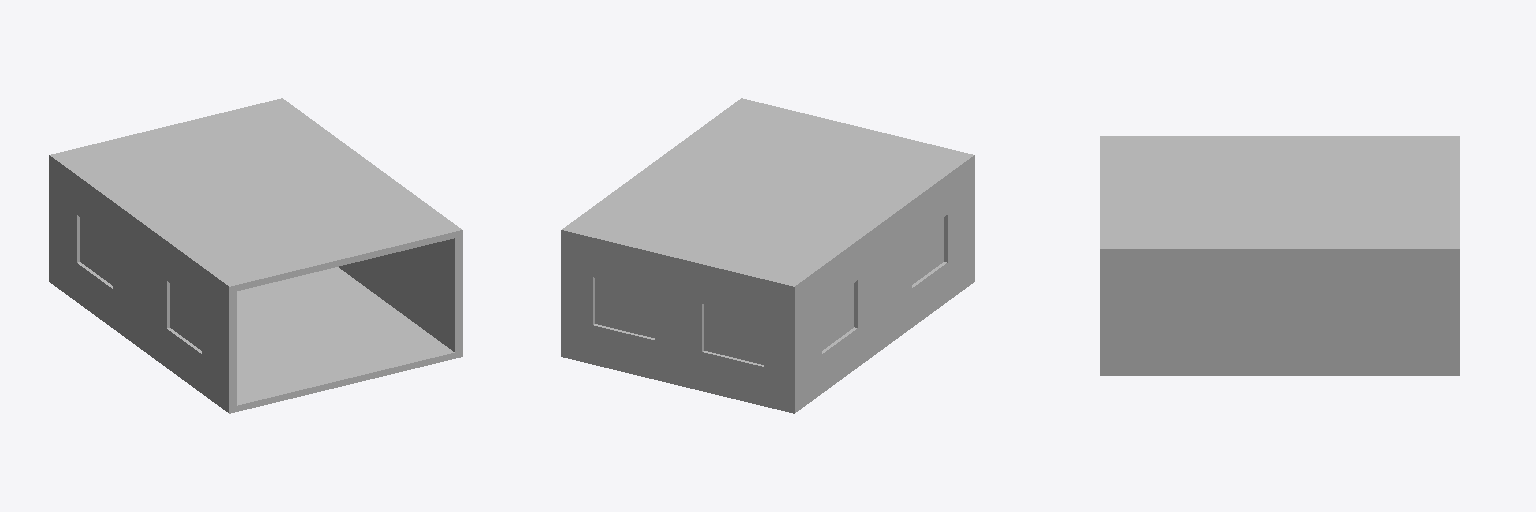
3 views of the same model, side by side, from view 1: azimuth 30°, elevation 25°; view 2: azimuth 150°, elevation 25°; view 3: azimuth 270°, elevation 25° (orthographic).
Visible parts, largest first — view 1: object_5, object_1, object_4, object_2, object_7, object_6, object_3; view 2: object_5, object_3, object_4, object_9, object_8, object_1, object_6, object_7; view 3: object_5, object_2, object_1, object_3.
Part boxes in pixels (x1,y1,x2,y2): object_5: (49,98,462,292); object_1: (49,267,462,413); object_4: (54,165,236,407); object_2: (339,236,462,351); object_7: (80,217,112,285); object_6: (170,283,201,350); object_3: (49,162,53,278); object_5: (561,98,974,292); object_3: (561,236,798,407); object_4: (799,162,974,403); object_9: (704,304,763,364); object_8: (595,278,654,337); object_1: (561,276,974,413); object_6: (912,217,943,284); object_7: (822,283,853,350); object_5: (1100,136,1459,255); object_2: (1100,256,1450,369); object_1: (1100,370,1459,375); object_3: (1451,256,1459,369).
Size of the model in its own units: 7.97 by 4.15 by 10.66.